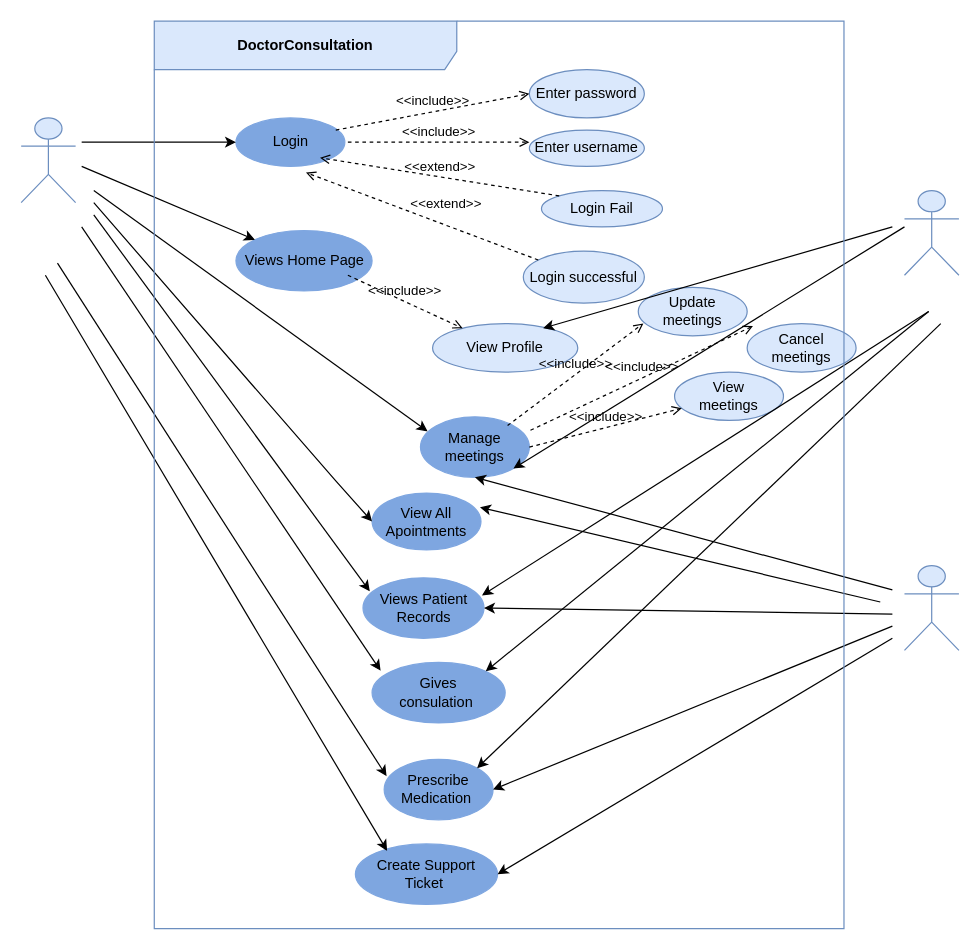
The diagram is 980 pixels wide and 950 high, and some of its shapes have lost their labels. Each missing label, with the centre of its shape:
"Doctor" belongs at pixel 48 160.
"Patient" belongs at pixel 931 232.
"Staff" belongs at pixel 931 607.
